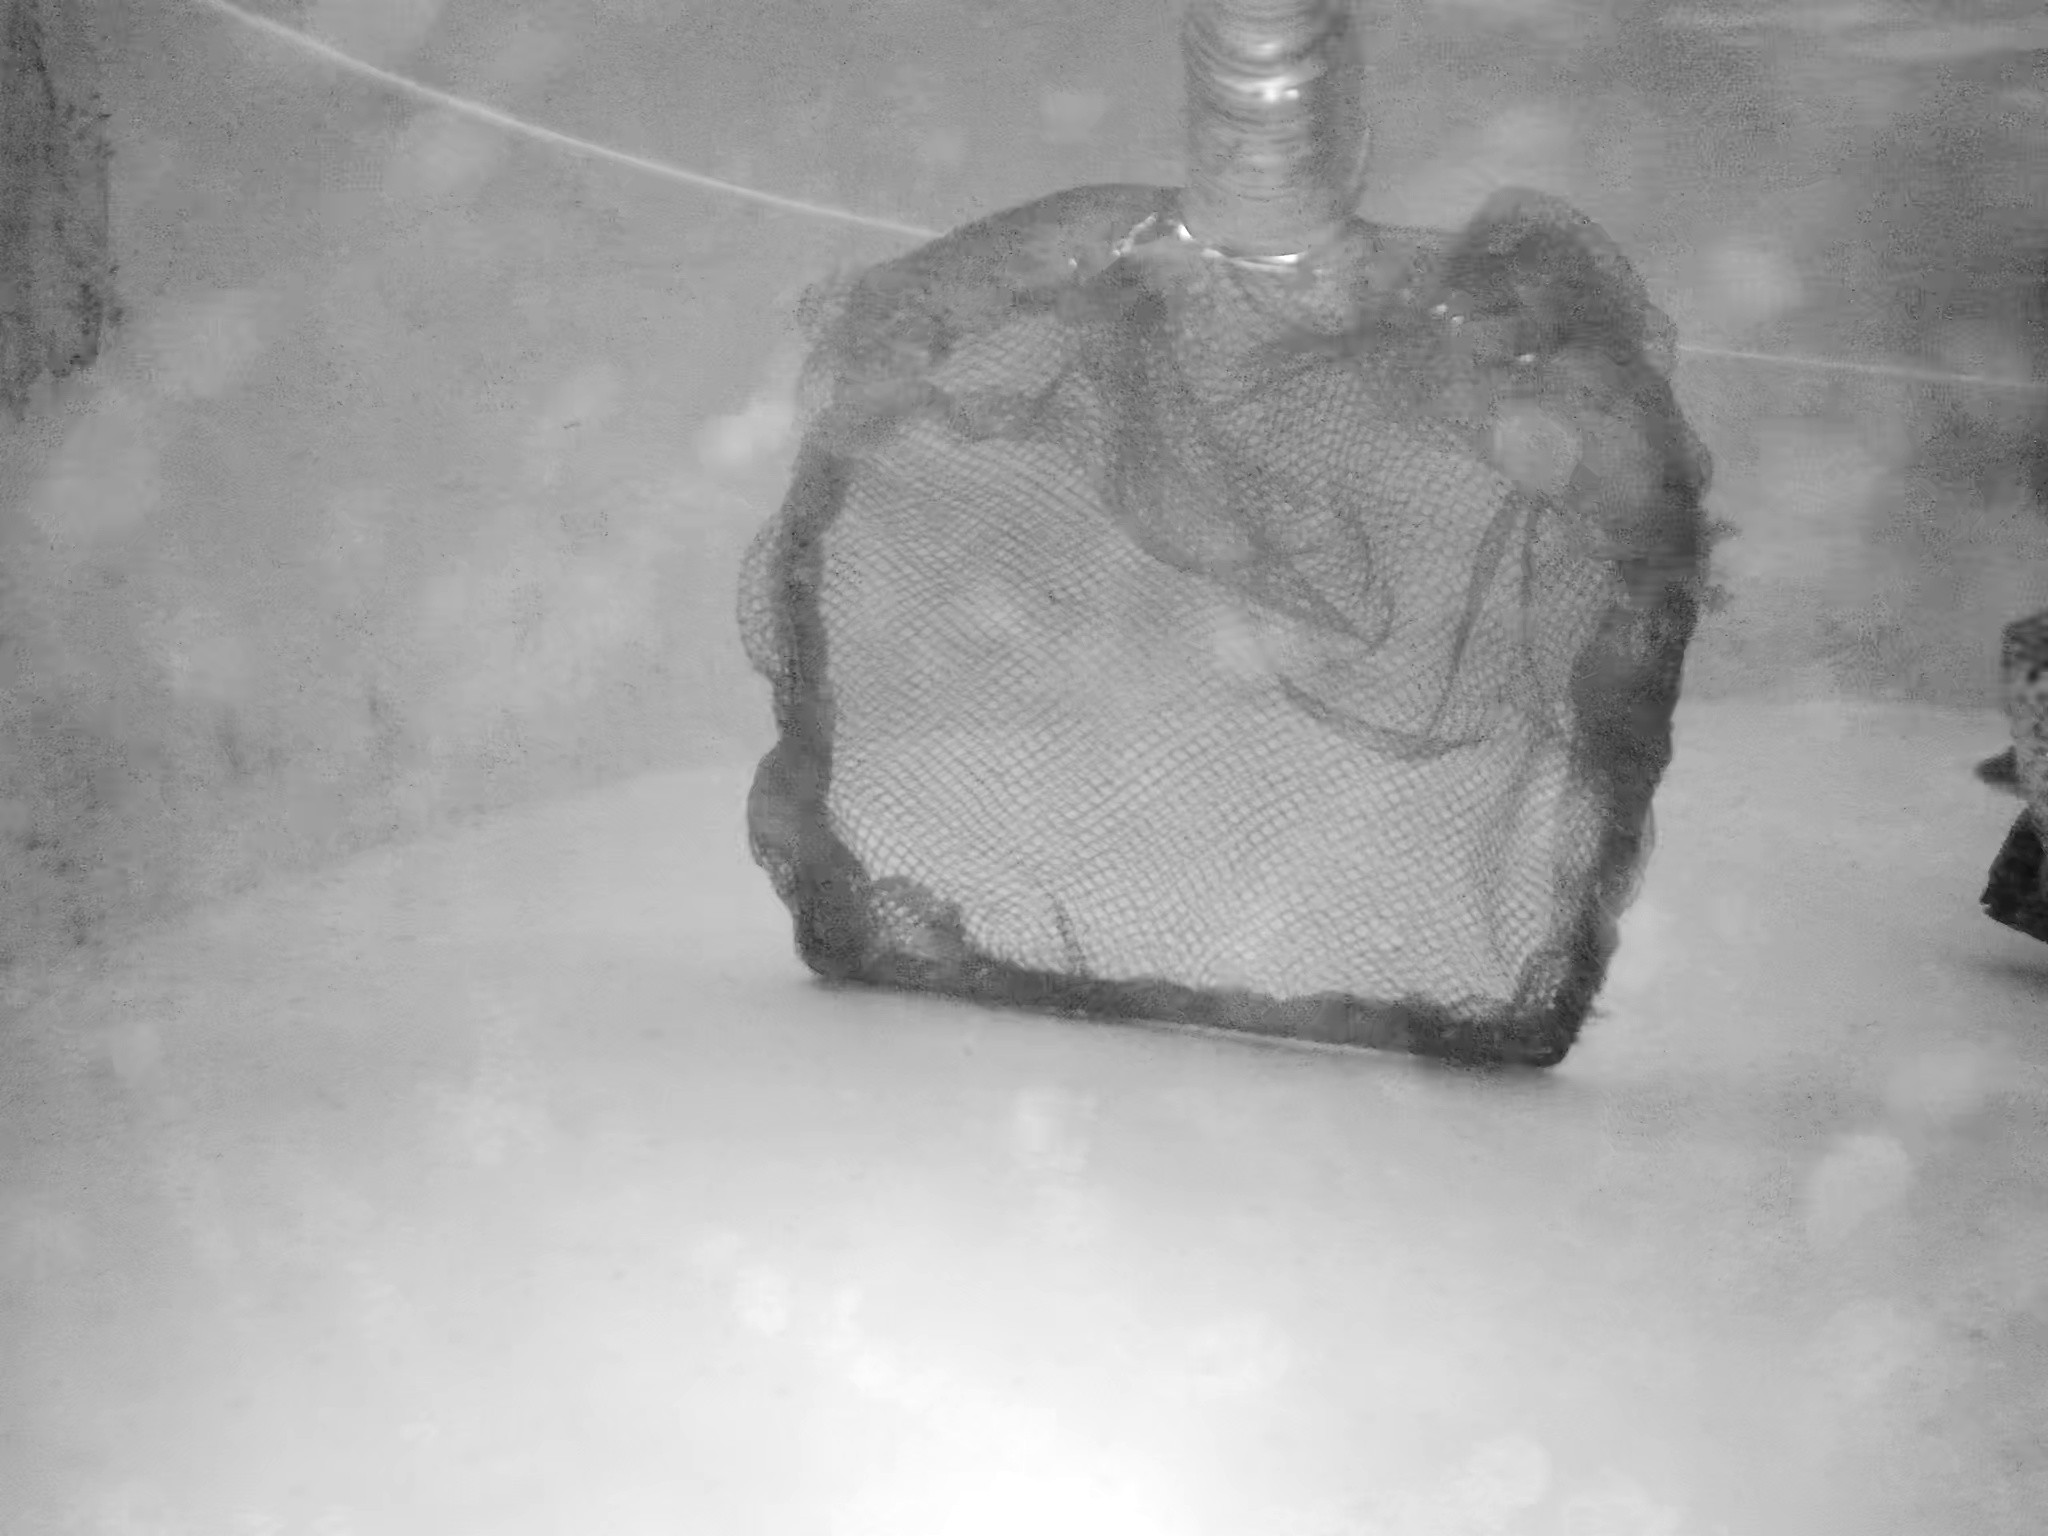fish: (1987, 607, 2048, 949)
